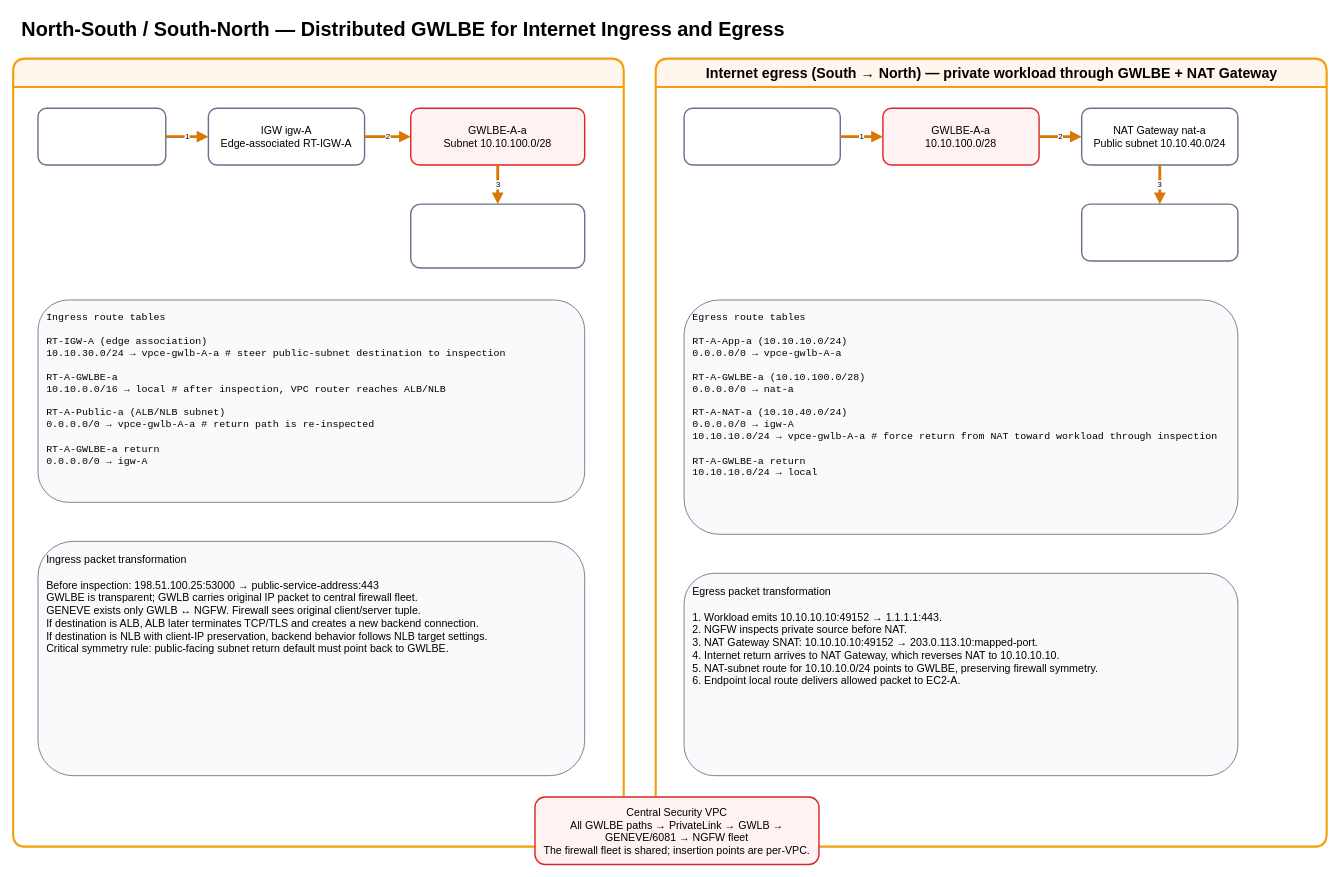
This 1340x877 diagram has some shape labels left out. Each missing label, with the box of its shape:
EC2-A 10.10.10.10 private workload: (683, 107, 841, 165)
IGW → Internet SNAT EIP 203.0.113.10: (1081, 203, 1238, 261)
Internet Client 198.51.100.25: (37, 107, 166, 165)
Internet ingress (North → South) — public ALB/NLB or public-IP workload: (12, 57, 624, 847)
Public ALB/NLB Public subnet 10.10.30.0/24 Backend example 10.10.10.10: (410, 203, 585, 268)
